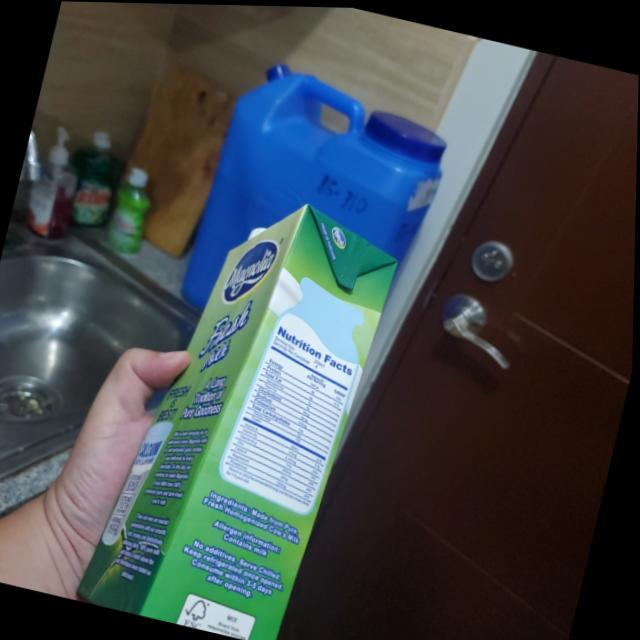milk: (77, 167, 411, 640)
